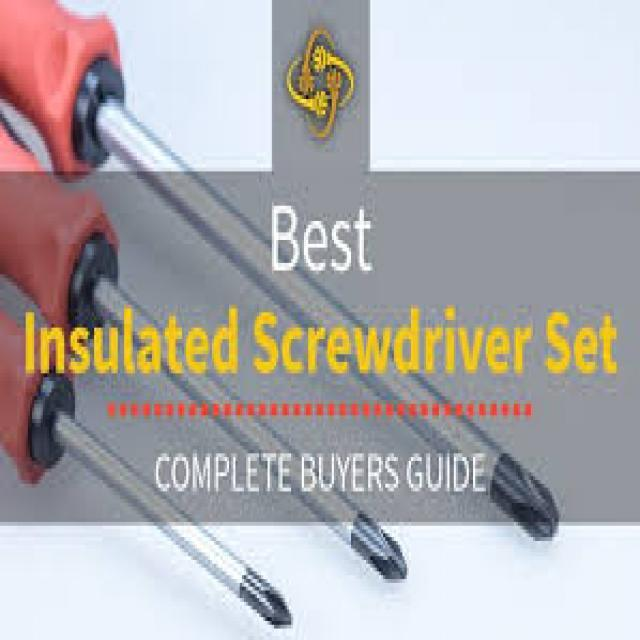screwdriver: (0, 0, 569, 545), (0, 114, 411, 583), (0, 305, 295, 625)
